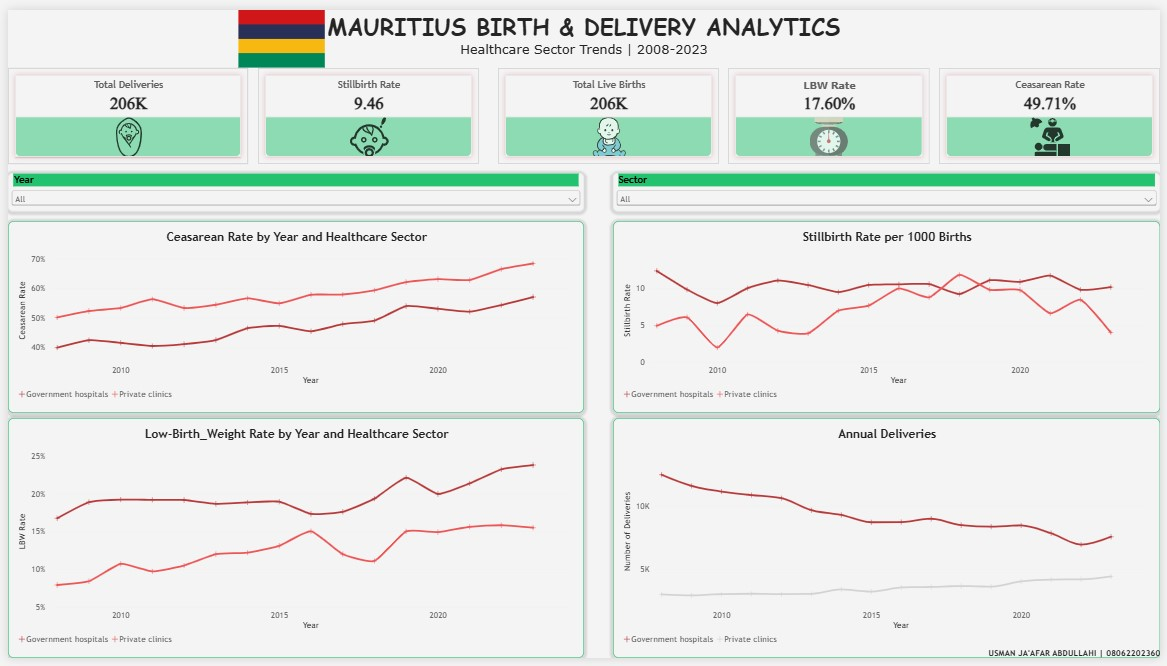

The page's visual inventory and layout, read from the dashboard file:
{"tool":"powerbi","page":{"name":"Page 1","canvas":[1920,1080],"ordinal":0},"visuals":[{"type":"cardVisual","fields":{"Data":["mauritius_birth_statistics_analysis.Total Deliveries"]},"box":[0,96,400,160],"z":0},{"type":"cardVisual","fields":{"Data":["mauritius_birth_statistics_analysis.Total Live Births"]},"box":[816,96,368,160],"z":1000},{"type":"cardVisual","fields":{"Data":["mauritius_birth_statistics_analysis.Ceasarean Rate"]},"box":[1552,96,368,160],"z":2000},{"type":"cardVisual","fields":{"Data":["mauritius_birth_statistics_analysis.LBW Rate"]},"box":[1200,96,336,160],"z":3000},{"type":"cardVisual","fields":{"Data":["mauritius_birth_statistics_analysis.Stillbirth Rate"]},"box":[416,96,368,160],"z":4000},{"type":"slicer","fields":{"Values":["mauritius_birth_statistics_analysis.Year"]},"box":[0,272,960,64],"z":5000},{"type":"lineChart","title":"Annual Deliveries","fields":{"Category":["mauritius_birth_statistics_analysis.Year"],"Series":["mauritius_birth_statistics_analysis.Sector"],"Y":["Sum(mauritius_birth_statistics_analysis.Deliveries)"]},"box":[1008,680,912,400],"z":6000},{"type":"lineChart","title":"Ceasarean Rate by Year and Healthcare Sector","fields":{"Category":["mauritius_birth_statistics_analysis.Year"],"Series":["mauritius_birth_statistics_analysis.Sector"],"Y":["mauritius_birth_statistics_analysis.Ceasarean Rate"]},"box":[0,352,960,320],"z":7000},{"type":"lineChart","title":"Low-Birth_Weight Rate by Year and Healthcare Sector","fields":{"Category":["mauritius_birth_statistics_analysis.Year"],"Series":["mauritius_birth_statistics_analysis.Sector"],"Y":["mauritius_birth_statistics_analysis.LBW Rate"]},"box":[0,680,960,400],"z":8000},{"type":"lineChart","title":"Stillbirth Rate per 1000 Births ","fields":{"Category":["mauritius_birth_statistics_analysis.Year"],"Series":["mauritius_birth_statistics_analysis.Sector"],"Y":["mauritius_birth_statistics_analysis.Stillbirth Rate"]},"box":[1008,352,912,320],"z":9000},{"type":"slicer","fields":{"Values":["mauritius_birth_statistics_analysis.Sector"]},"box":[1008,272,912,64],"z":10000},{"type":"textbox","box":[0,0,1920,80],"z":11000},{"type":"image","box":[0,0,912,96],"z":12000},{"type":"textbox","box":[976,1064,944,16],"z":13000}]}

Visuals, with their boxes in screenshot pixels (x1, y1, x2, y2), scaled from the page's 1920x1080 canvas onto the 1167x666 screenshot:
cardVisual - mauritius_birth_statistics_analysis.Total Deliveries: box(0, 59, 243, 158)
cardVisual - mauritius_birth_statistics_analysis.Total Live Births: box(496, 59, 720, 158)
cardVisual - mauritius_birth_statistics_analysis.Ceasarean Rate: box(943, 59, 1166, 158)
cardVisual - mauritius_birth_statistics_analysis.LBW Rate: box(729, 59, 934, 158)
cardVisual - mauritius_birth_statistics_analysis.Stillbirth Rate: box(253, 59, 477, 158)
slicer - mauritius_birth_statistics_analysis.Year: box(0, 168, 584, 207)
"Annual Deliveries" lineChart: box(613, 419, 1166, 665)
"Ceasarean Rate by Year and Healthcare Sector" lineChart: box(0, 217, 584, 414)
"Low-Birth_Weight Rate by Year and Healthcare Sector" lineChart: box(0, 419, 584, 665)
"Stillbirth Rate per 1000 Births " lineChart: box(613, 217, 1166, 414)
slicer - mauritius_birth_statistics_analysis.Sector: box(613, 168, 1166, 207)
textbox: box(0, 0, 1166, 49)
image: box(0, 0, 554, 59)
textbox: box(593, 656, 1166, 665)
